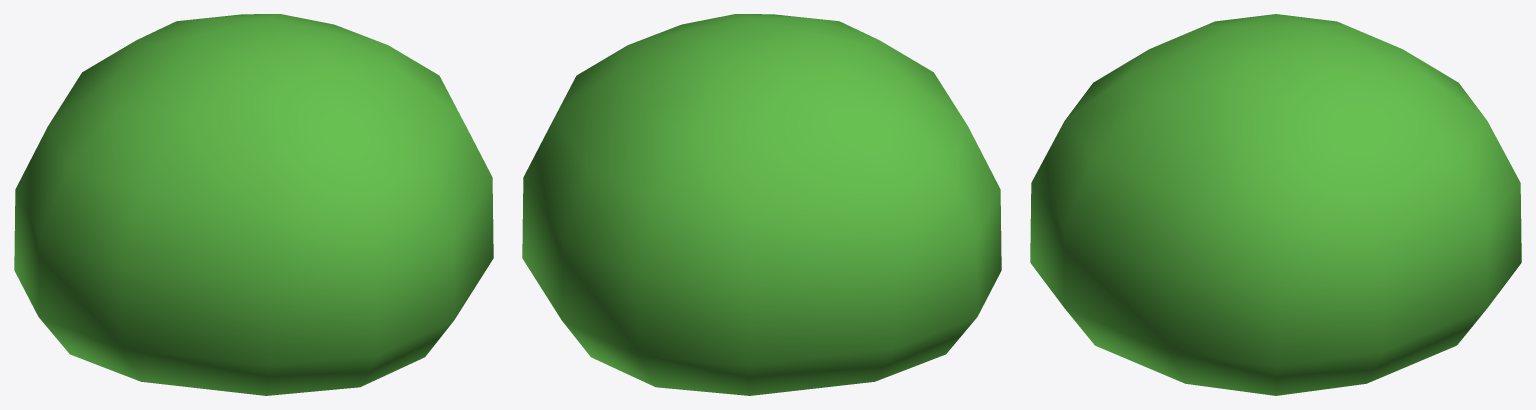
Rendered from bush1.glb.
3 views of the same model, side by side, from view 1: azimuth 30°, elevation 25°; view 2: azimuth 150°, elevation 25°; view 3: azimuth 270°, elevation 25° (orthographic).
Visible parts, largest first — view 1: Bush_1_B_Color1; view 2: Bush_1_B_Color1; view 3: Bush_1_B_Color1.
Part boxes in pixels (x1,y1,x2,y2): Bush_1_B_Color1: [14, 14, 493, 395]; Bush_1_B_Color1: [522, 14, 1001, 395]; Bush_1_B_Color1: [1030, 14, 1521, 395].
Size of the model in its own units: 0.7224 by 0.4841 by 0.7224.
